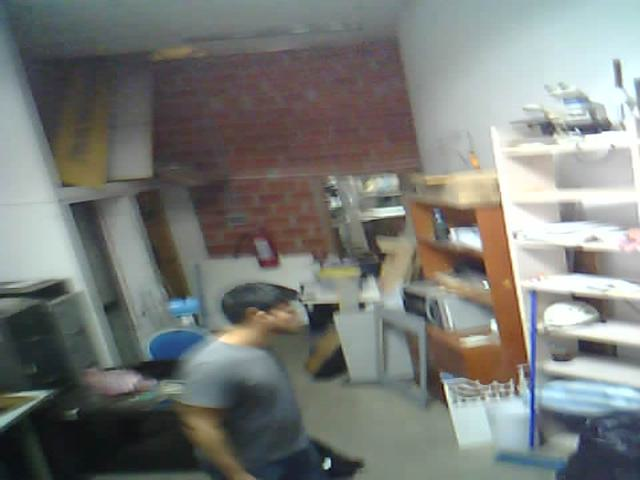person: (153, 272, 370, 480)
